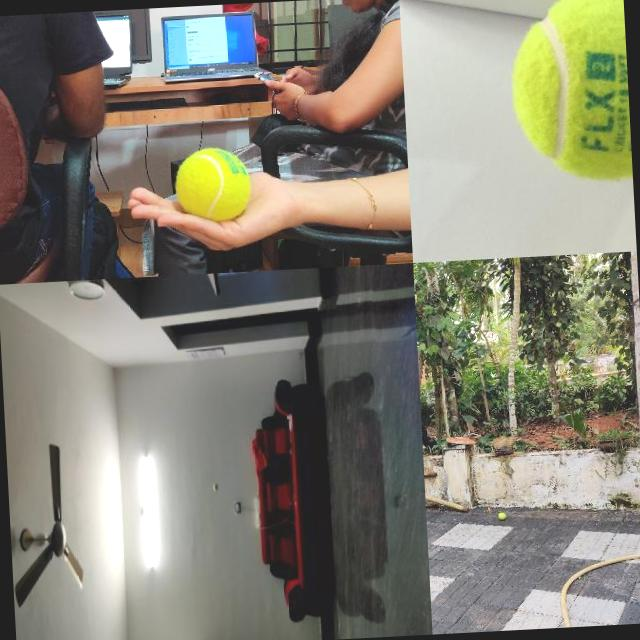Tennis Ball: (505, 0, 632, 186), (174, 146, 252, 222), (498, 513, 506, 520), (212, 482, 218, 490)
